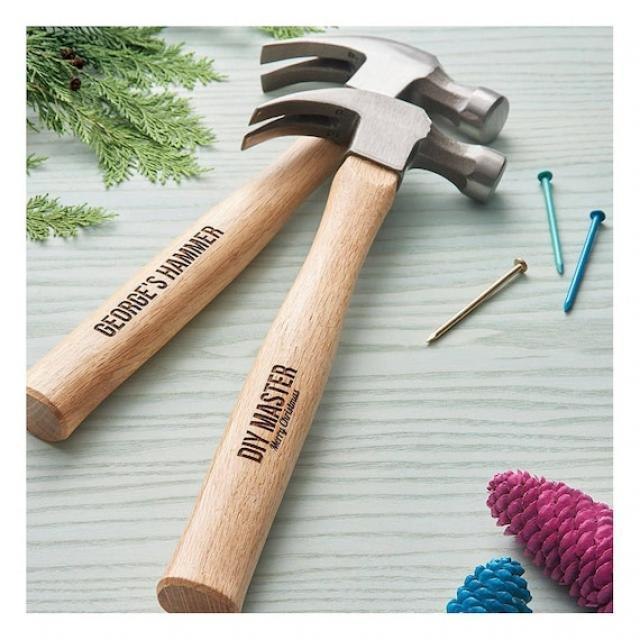hammer: (27, 27, 518, 452), (146, 72, 514, 634)
